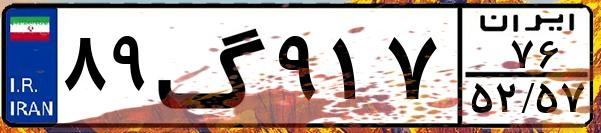1: (330, 28, 385, 110)
2: (495, 70, 520, 125)
5: (470, 70, 495, 125), (535, 70, 560, 125)
6: (537, 27, 568, 80)
7: (385, 28, 445, 110), (560, 70, 590, 125), (508, 27, 537, 80)
8: (57, 26, 110, 100)
9: (270, 28, 330, 110), (110, 28, 156, 98)
گ: (156, 12, 270, 120)
